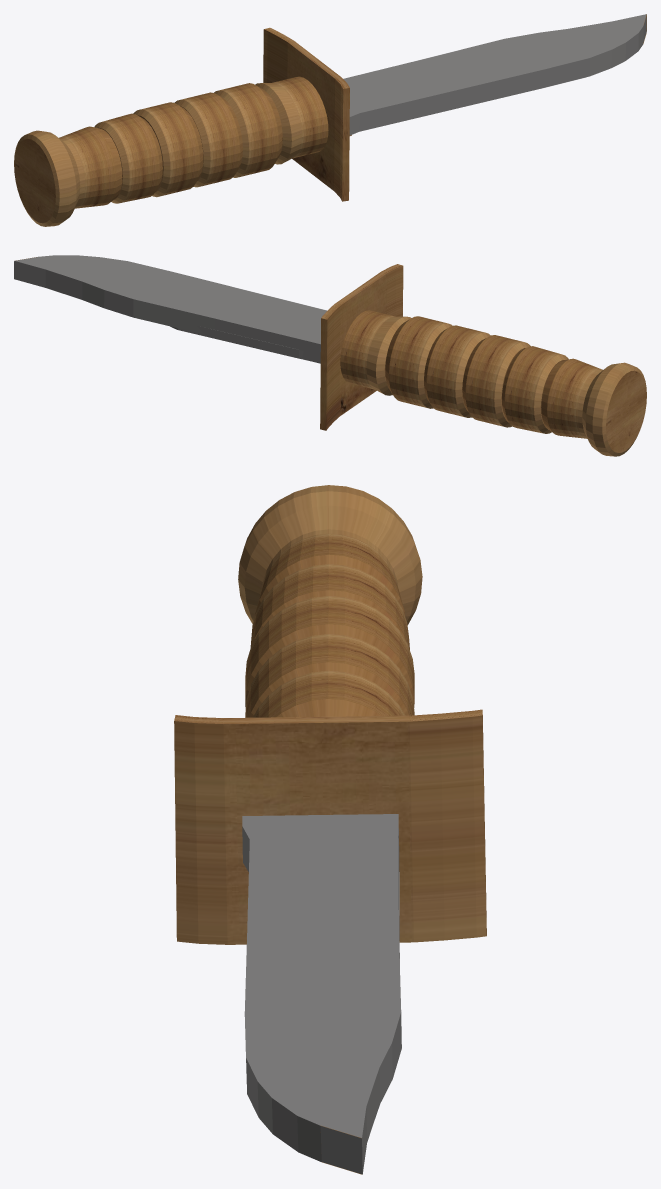
File: knife.fbx
3 views of the same model, one above another, from view 1: azimuth 30°, elevation 25°; view 2: azimuth 150°, elevation 25°; view 3: azimuth 270°, elevation 25° (orthographic). The views are drawn at different scales.
Visible parts, largest first — view 1: Cylinder.005; view 2: Cylinder.005; view 3: Cylinder.005.
Part boxes in pixels (x1,y1,x2,y2): Cylinder.005: (14,14,646,226); Cylinder.005: (14,255,646,456); Cylinder.005: (174,485,486,1174).
Size of the model in its own units: 475 by 84.75 by 107.
Materials: 3 (2 with a texture image).
